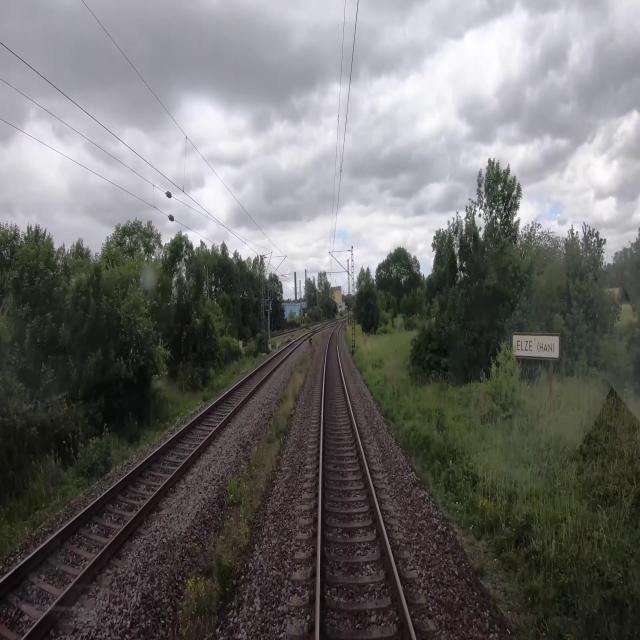Plant: (179, 335, 318, 639), (296, 320, 344, 341)
